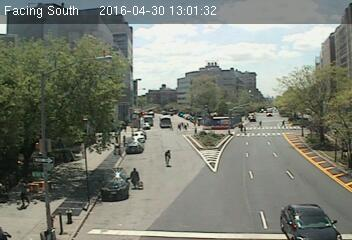neg: (277, 190, 304, 225), (185, 143, 205, 169), (230, 153, 246, 173), (134, 130, 149, 150), (303, 82, 318, 101), (332, 131, 345, 149), (324, 95, 335, 111), (266, 155, 277, 169)
pos: (10, 176, 33, 207), (125, 166, 145, 191), (160, 147, 175, 167), (278, 116, 288, 129), (258, 117, 267, 129)
